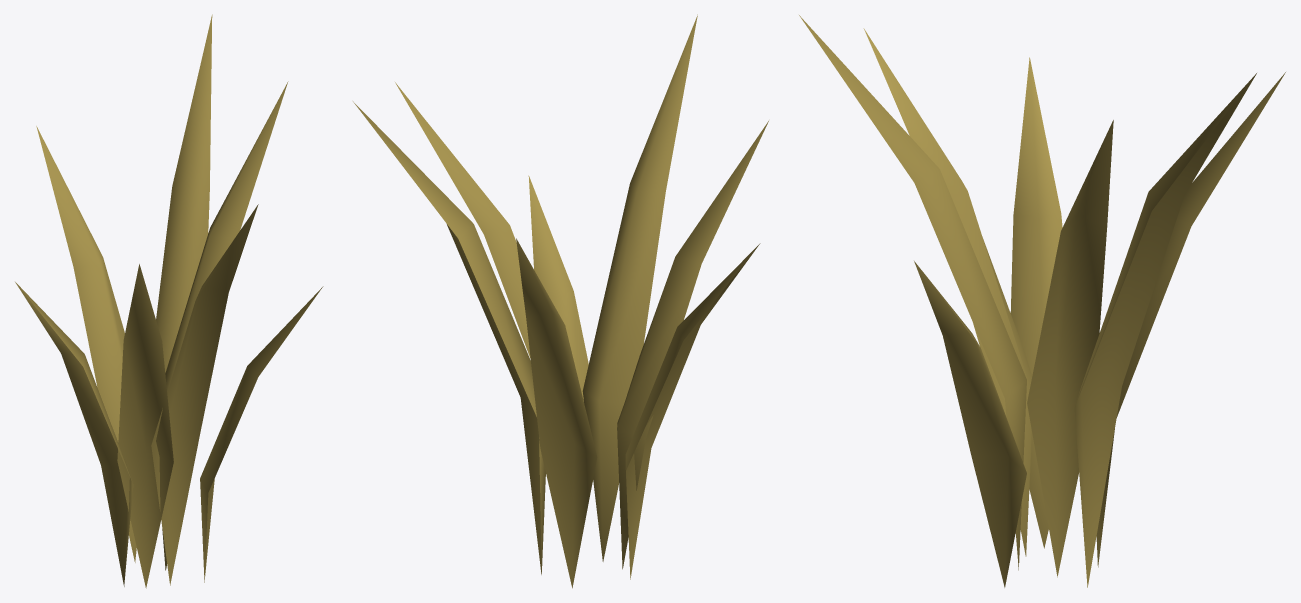
Rendered from wheat.glb.
3 renders of one model, left to right at view 1: azimuth 30°, elevation 25°; view 2: azimuth 150°, elevation 25°; view 3: azimuth 270°, elevation 25°, orthographic. The views are drawn at different scales.
Visible parts, largest first — view 1: wheat; view 2: wheat; view 3: wheat.
Part boxes in pixels (<box>): wheat: <box>15,14,323,588</box>; wheat: <box>353,14,768,588</box>; wheat: <box>799,15,1285,587</box>.
Size of the model in its own units: 0.637 by 0.9244 by 0.7022.
